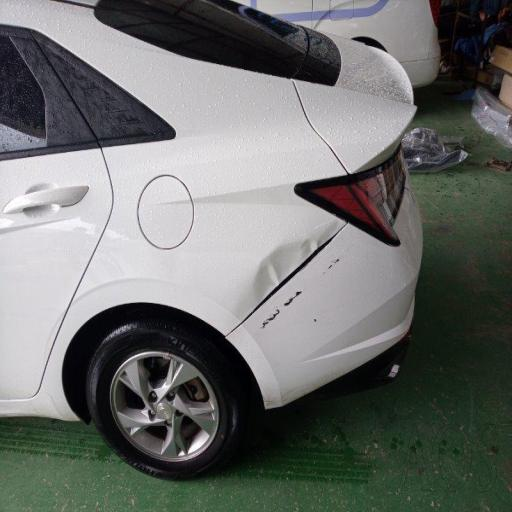dent: (100, 131, 351, 341)
